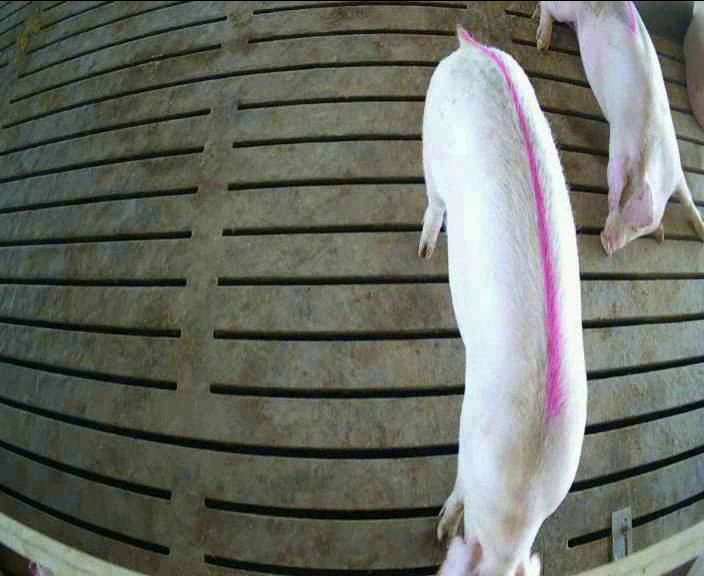pig: (419, 28, 585, 573), (538, 2, 703, 254)
